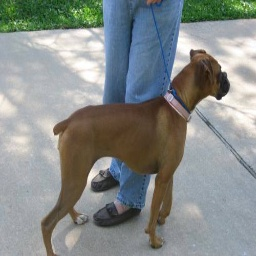dog: (40, 46, 228, 252)
